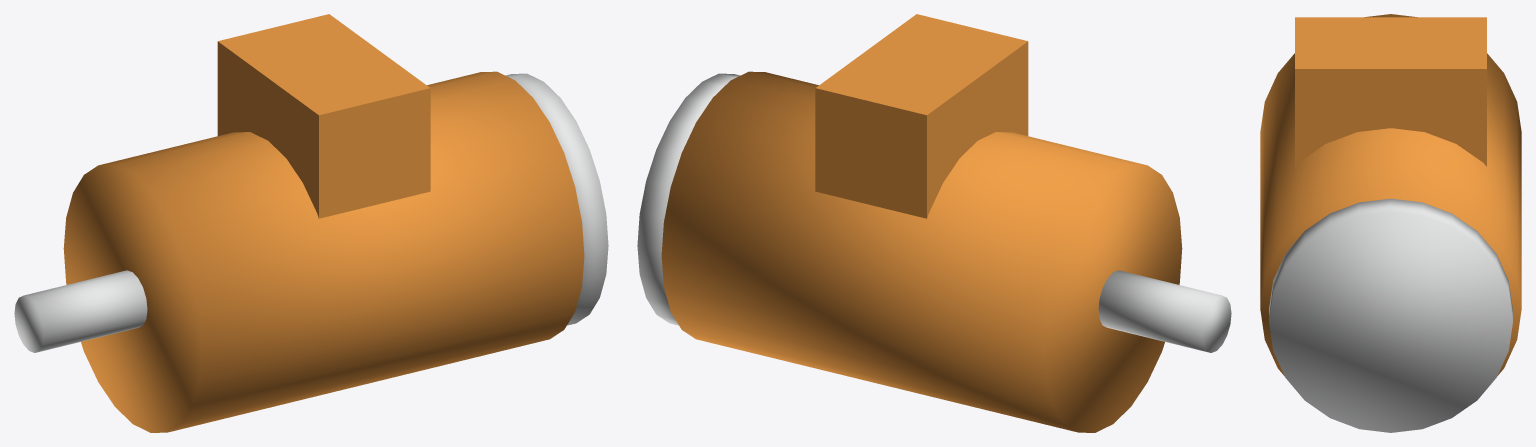
The model's file is motor.glb.
3 views of the same model, side by side, from view 1: azimuth 30°, elevation 25°; view 2: azimuth 150°, elevation 25°; view 3: azimuth 270°, elevation 25° (orthographic). The views are drawn at different scales.
Visible parts, largest first — view 1: PROP-MOTOR; view 2: PROP-MOTOR; view 3: PROP-MOTOR.
Part boxes in pixels (x1,y1,x2,y2): PROP-MOTOR: [14, 14, 608, 432]; PROP-MOTOR: [637, 14, 1231, 432]; PROP-MOTOR: [1260, 14, 1521, 432].
Size of the model in its own units: 0.323 by 0.1875 by 0.15.
